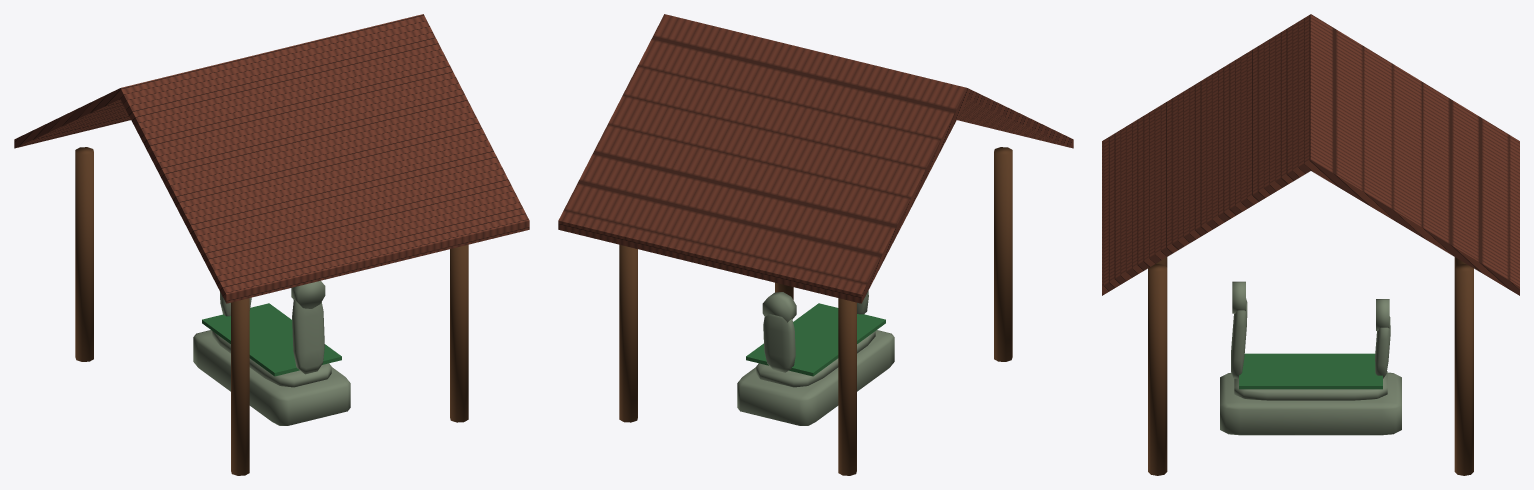
The model's file is prop_cungkup.glb.
3 views of the same model, side by side, from view 1: azimuth 30°, elevation 25°; view 2: azimuth 150°, elevation 25°; view 3: azimuth 270°, elevation 25° (orthographic).
Parts seen in each view (by area): view 1: cungkup; view 2: cungkup; view 3: cungkup.
Part boxes in pixels (box(x1,y1,x2,y2)): cungkup: box(14, 14, 529, 475); cungkup: box(558, 14, 1073, 475); cungkup: box(1102, 14, 1519, 475).
Size of the model in its own units: 3.6 by 3.83 by 4.36.
Materials: 4 (2 with a texture image).
